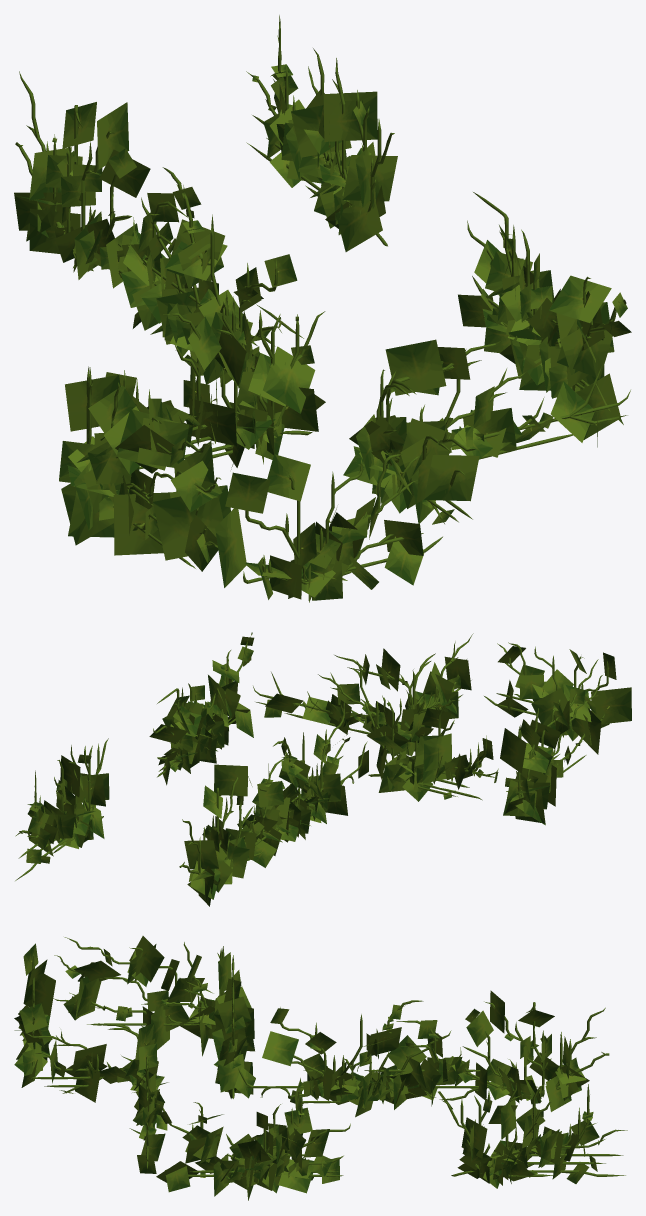
The model's file is Vines.fbx.
3 renders of one model, top to bottom at view 1: azimuth 30°, elevation 25°; view 2: azimuth 150°, elevation 25°; view 3: azimuth 270°, elevation 25°, orthographic. The views are drawn at different scales.
Visible parts, largest first — view 1: Cube.017; view 2: Cube.017; view 3: Cube.017.
Boxes of the visible parts, x1,y1,x2,y2 form: Cube.017: (14,15,631,602); Cube.017: (15,632,631,906); Cube.017: (14,936,627,1200).
Size of the model in its own units: 447 by 157 by 684.
